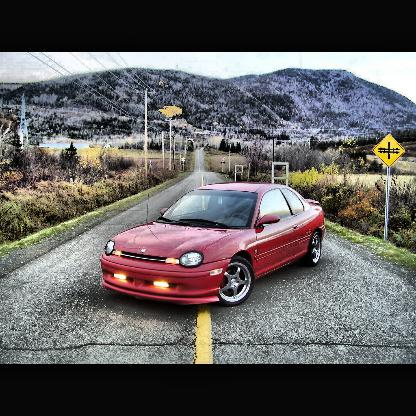Plymouth Neon Coupe 1999: (99, 182, 327, 308)
